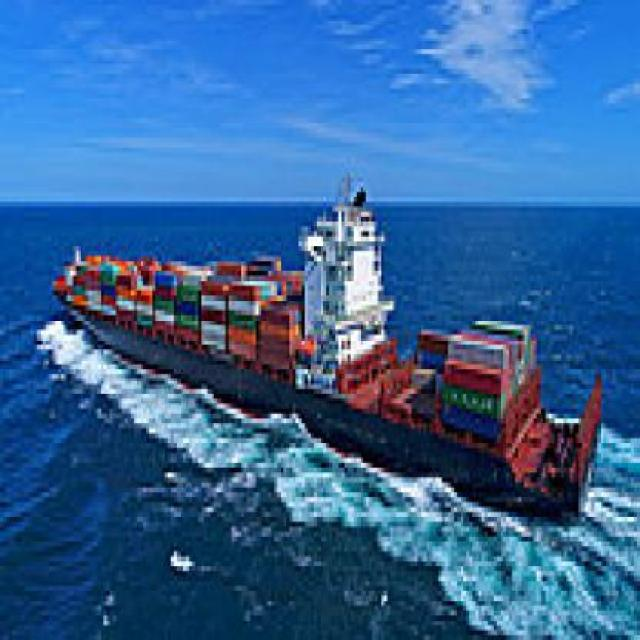container: (46, 159, 611, 548)
